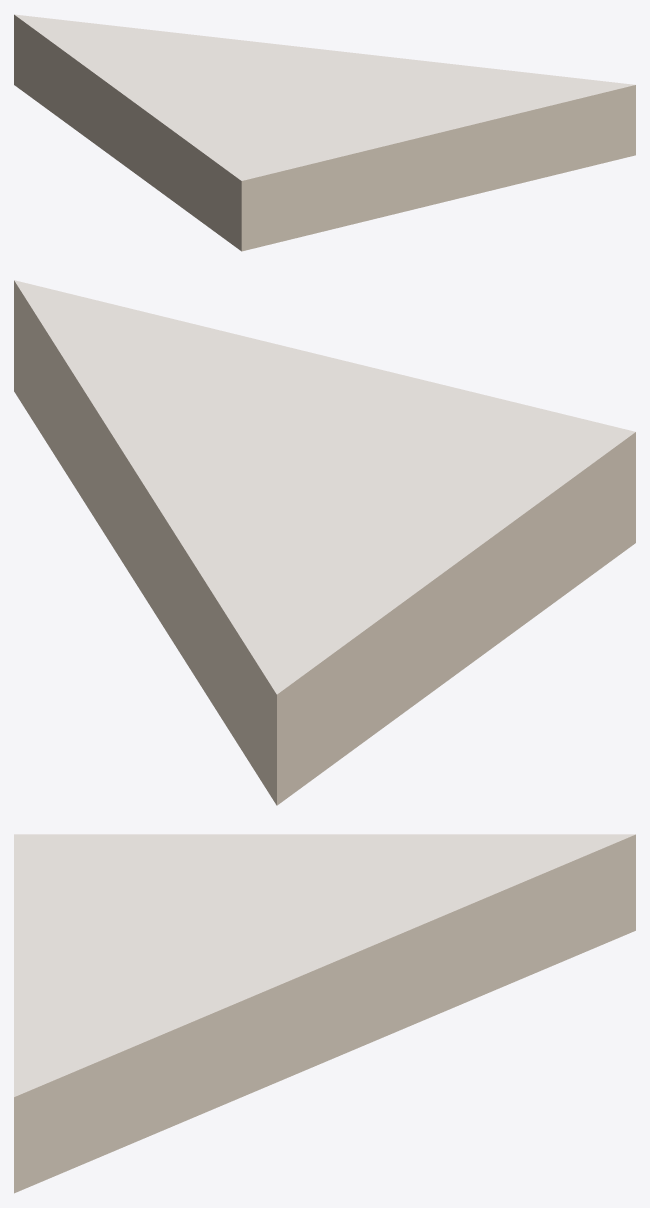
File: Floor_Curved_Large_Outer.glb
3 renders of one model, top to bottom at view 1: azimuth 30°, elevation 25°; view 2: azimuth 150°, elevation 25°; view 3: azimuth 270°, elevation 25°, orthographic. The views are drawn at different scales.
Parts seen in each view (by area): view 1: Floor_Curved_Large_Outer; view 2: Floor_Curved_Large_Outer; view 3: Floor_Curved_Large_Outer.
Part boxes in pixels (left/top/right/bottom): Floor_Curved_Large_Outer: left=14, top=14, right=635, bottom=251; Floor_Curved_Large_Outer: left=14, top=280, right=635, bottom=805; Floor_Curved_Large_Outer: left=14, top=834, right=635, bottom=1193.
Bounding box in the file's own units: 0.5272 × 0.09 × 0.5272.
